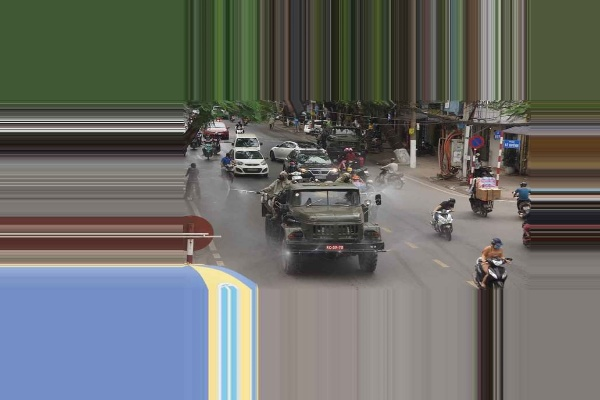plate: (323, 244, 345, 252)
